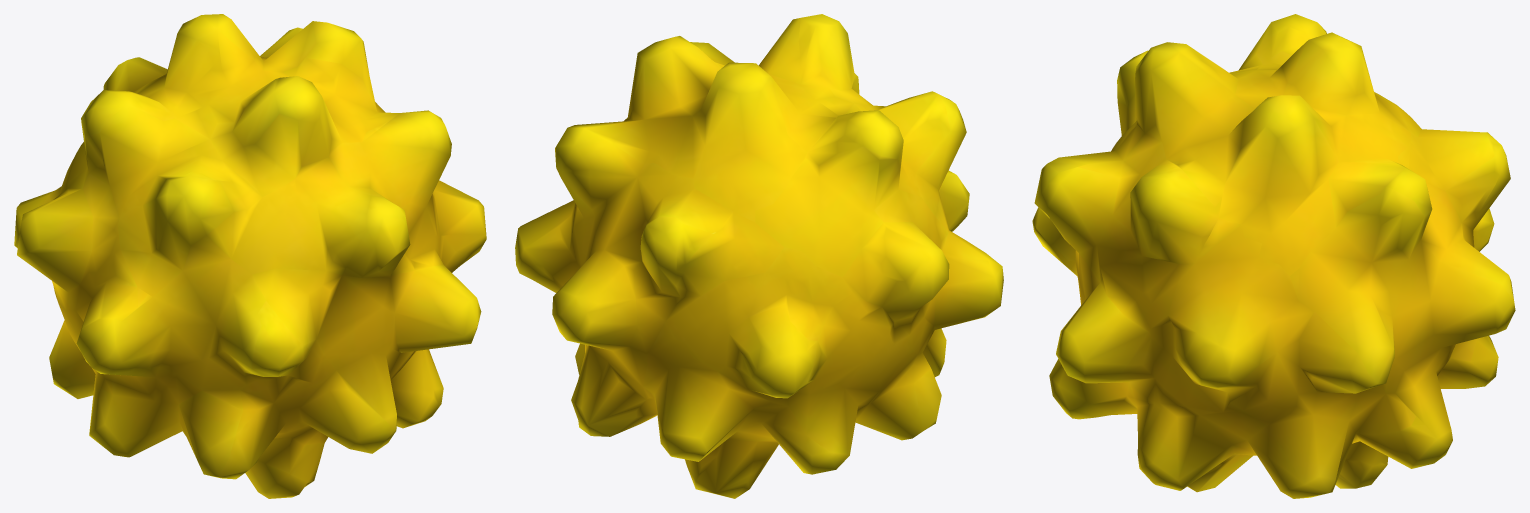
File: konpeito.glb
3 renders of one model, left to right at view 1: azimuth 30°, elevation 25°; view 2: azimuth 150°, elevation 25°; view 3: azimuth 270°, elevation 25°, orthographic. The views are drawn at different scales.
Visible parts, largest first — view 1: tripo_node_57ca2e98-634b-43ee-9437-0e3cf6f92d17; view 2: tripo_node_57ca2e98-634b-43ee-9437-0e3cf6f92d17; view 3: tripo_node_57ca2e98-634b-43ee-9437-0e3cf6f92d17.
Boxes of the visible parts, box(x1,y1,x2,y2) form: tripo_node_57ca2e98-634b-43ee-9437-0e3cf6f92d17: box(14, 14, 486, 498); tripo_node_57ca2e98-634b-43ee-9437-0e3cf6f92d17: box(515, 14, 1003, 498); tripo_node_57ca2e98-634b-43ee-9437-0e3cf6f92d17: box(1032, 14, 1515, 498).
Size of the model in its own units: 0.9782 by 0.9752 by 0.9625.
Materials: 1 (1 with a texture image).
